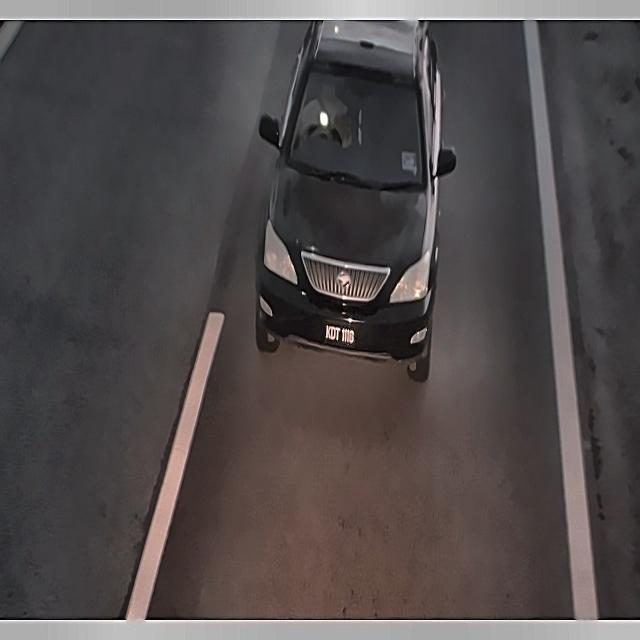car: (318, 321, 362, 353)
